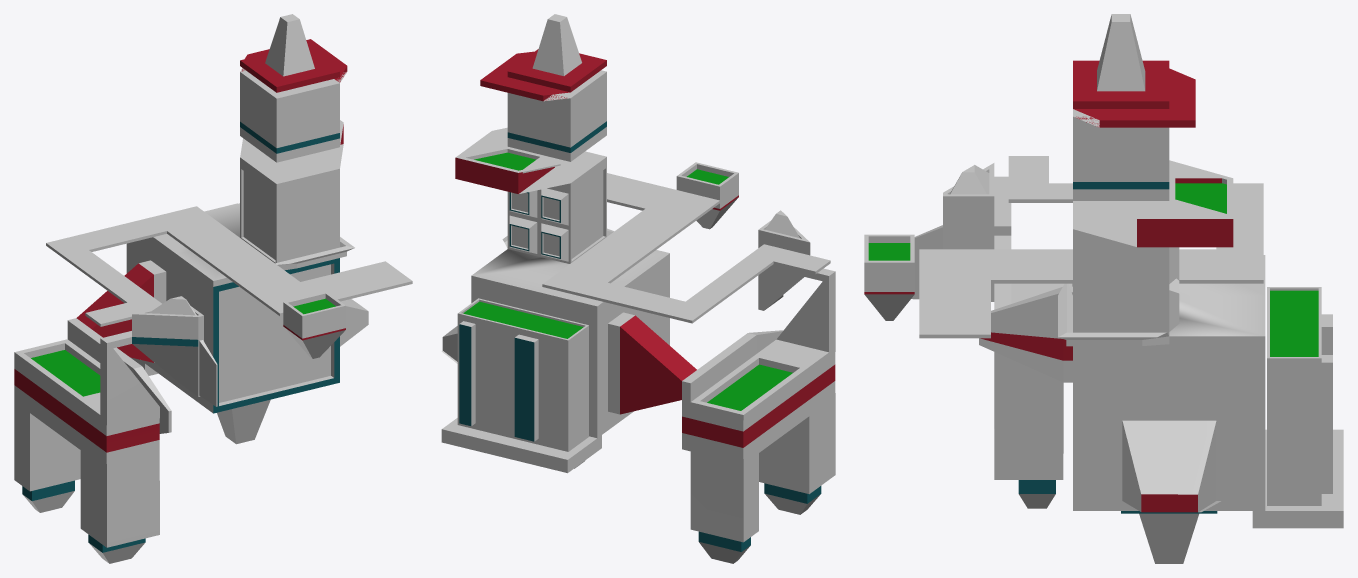
File: module4_color.fbx
3 views of the same model, side by side, from view 1: azimuth 30°, elevation 25°; view 2: azimuth 150°, elevation 25°; view 3: azimuth 270°, elevation 25° (orthographic). The views are drawn at different scales.
Parts seen in each view (by area): view 1: Cube; view 2: Cube; view 3: Cube.
Boxes of the visible parts, bbox=[...] form: Cube: bbox=[14, 14, 412, 563]; Cube: bbox=[441, 14, 835, 563]; Cube: bbox=[864, 14, 1343, 563].
Bounding box in the file's own units: 503 × 705 × 498.
